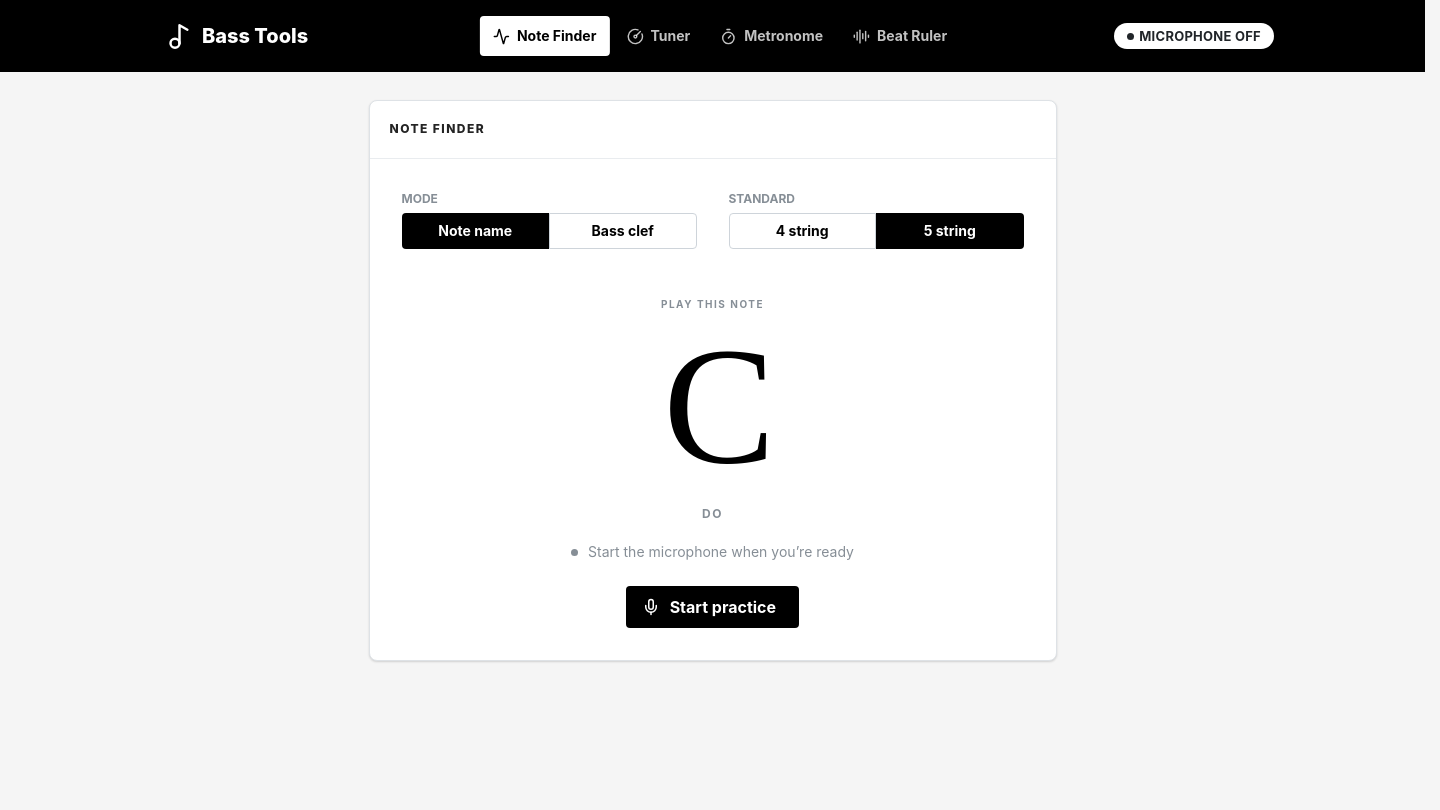
Test: App › shows red feedback only for a stable wrong note
What coordinates should you click on to do the following:
click the button "Start practice"
I would click on:
 (713, 607)
Its box is [626, 586, 799, 628].
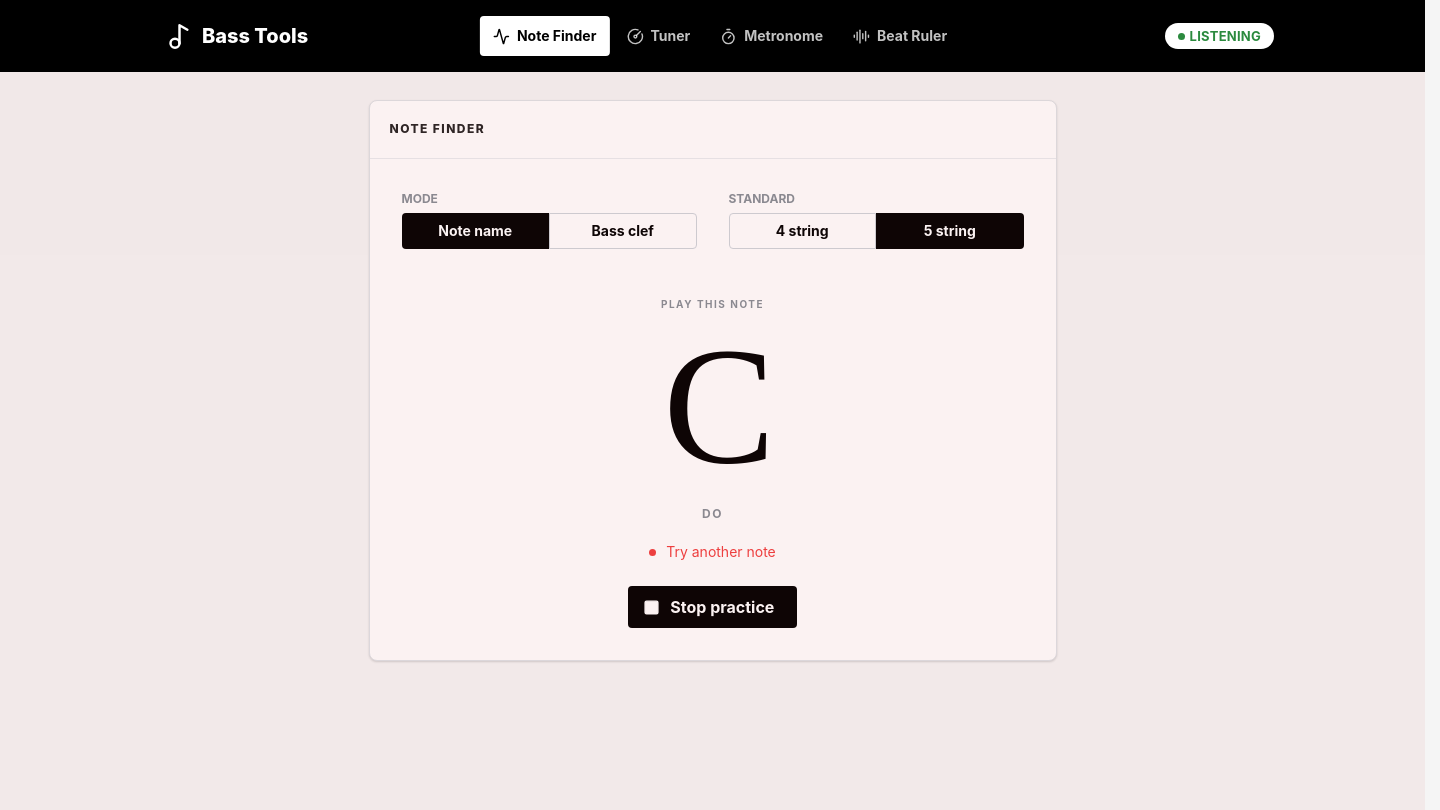
Now the text "Try another note" is shown, box [649, 538, 776, 566]
